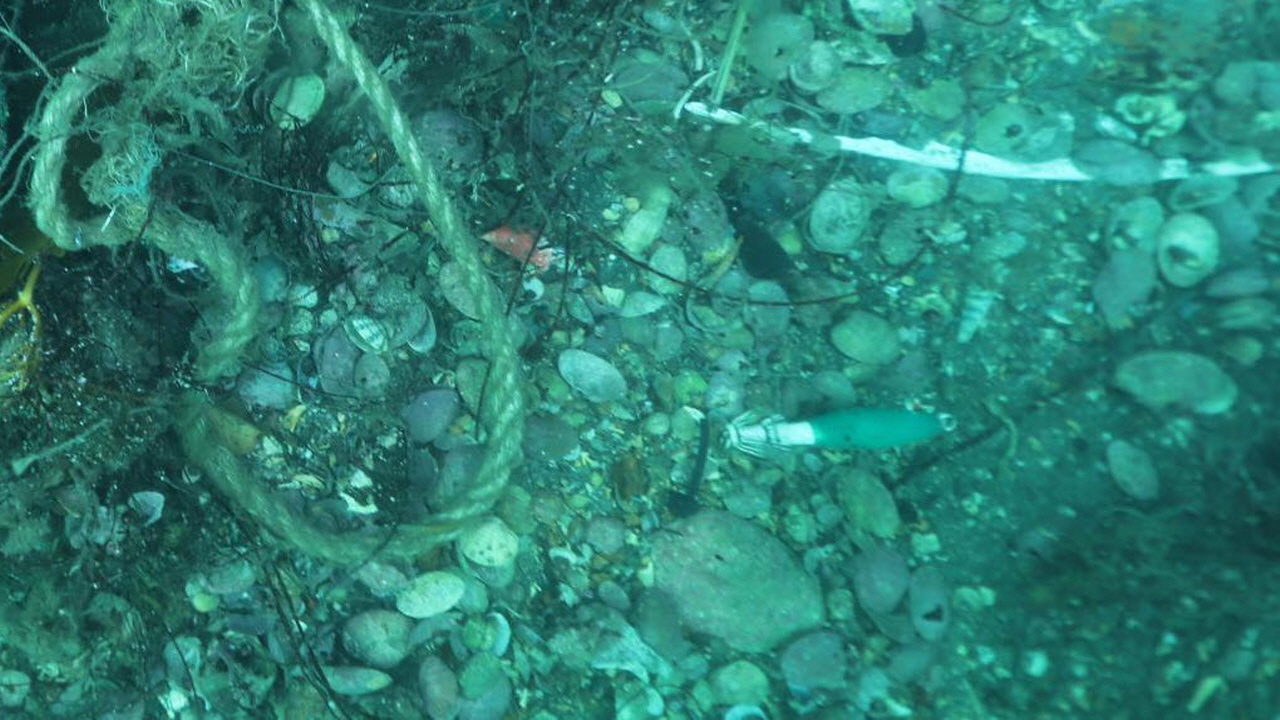bundle of ropes: (27, 0, 529, 567)
